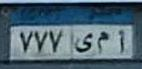7: (48, 29, 64, 55), (18, 29, 34, 54), (34, 29, 48, 56)
alif: (116, 27, 128, 57)
meem: (95, 28, 111, 55)
yaa: (74, 30, 94, 55)
